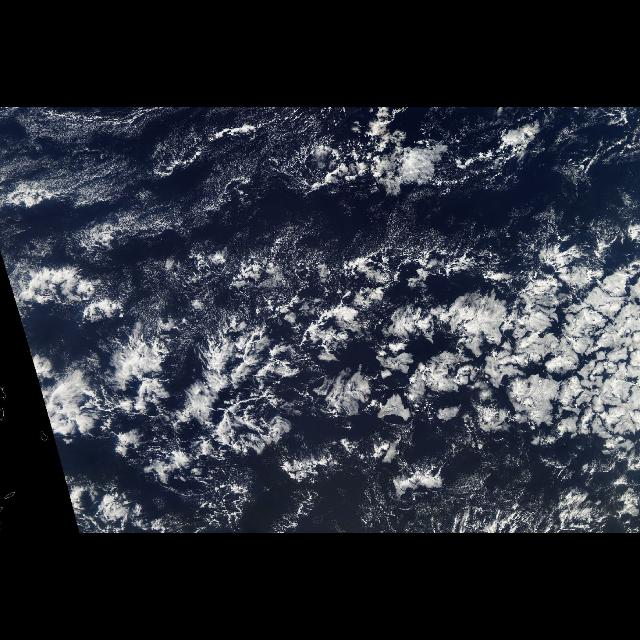Flower: (11, 238, 640, 500)
Sugar: (4, 110, 453, 306)
